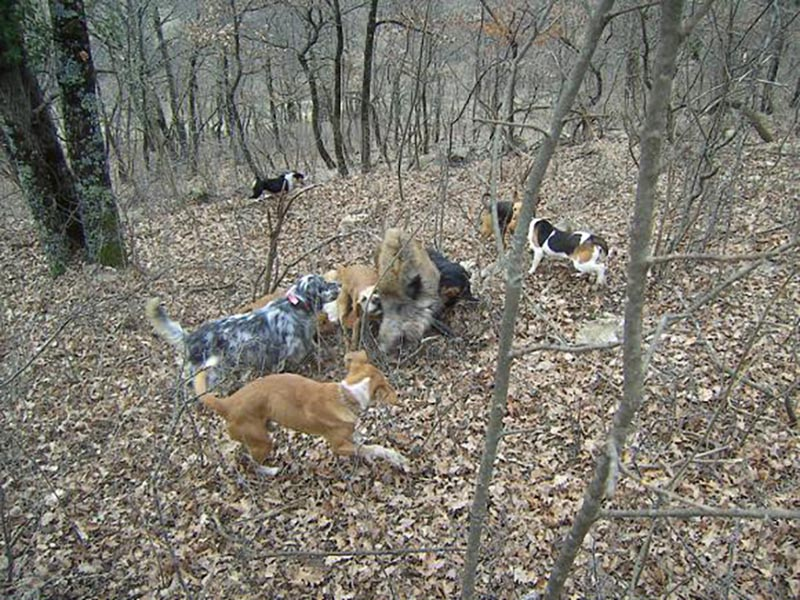cane da caccia: (205, 354, 417, 467), (151, 258, 343, 382), (530, 219, 619, 293)
cinghiale: (368, 225, 440, 359)
